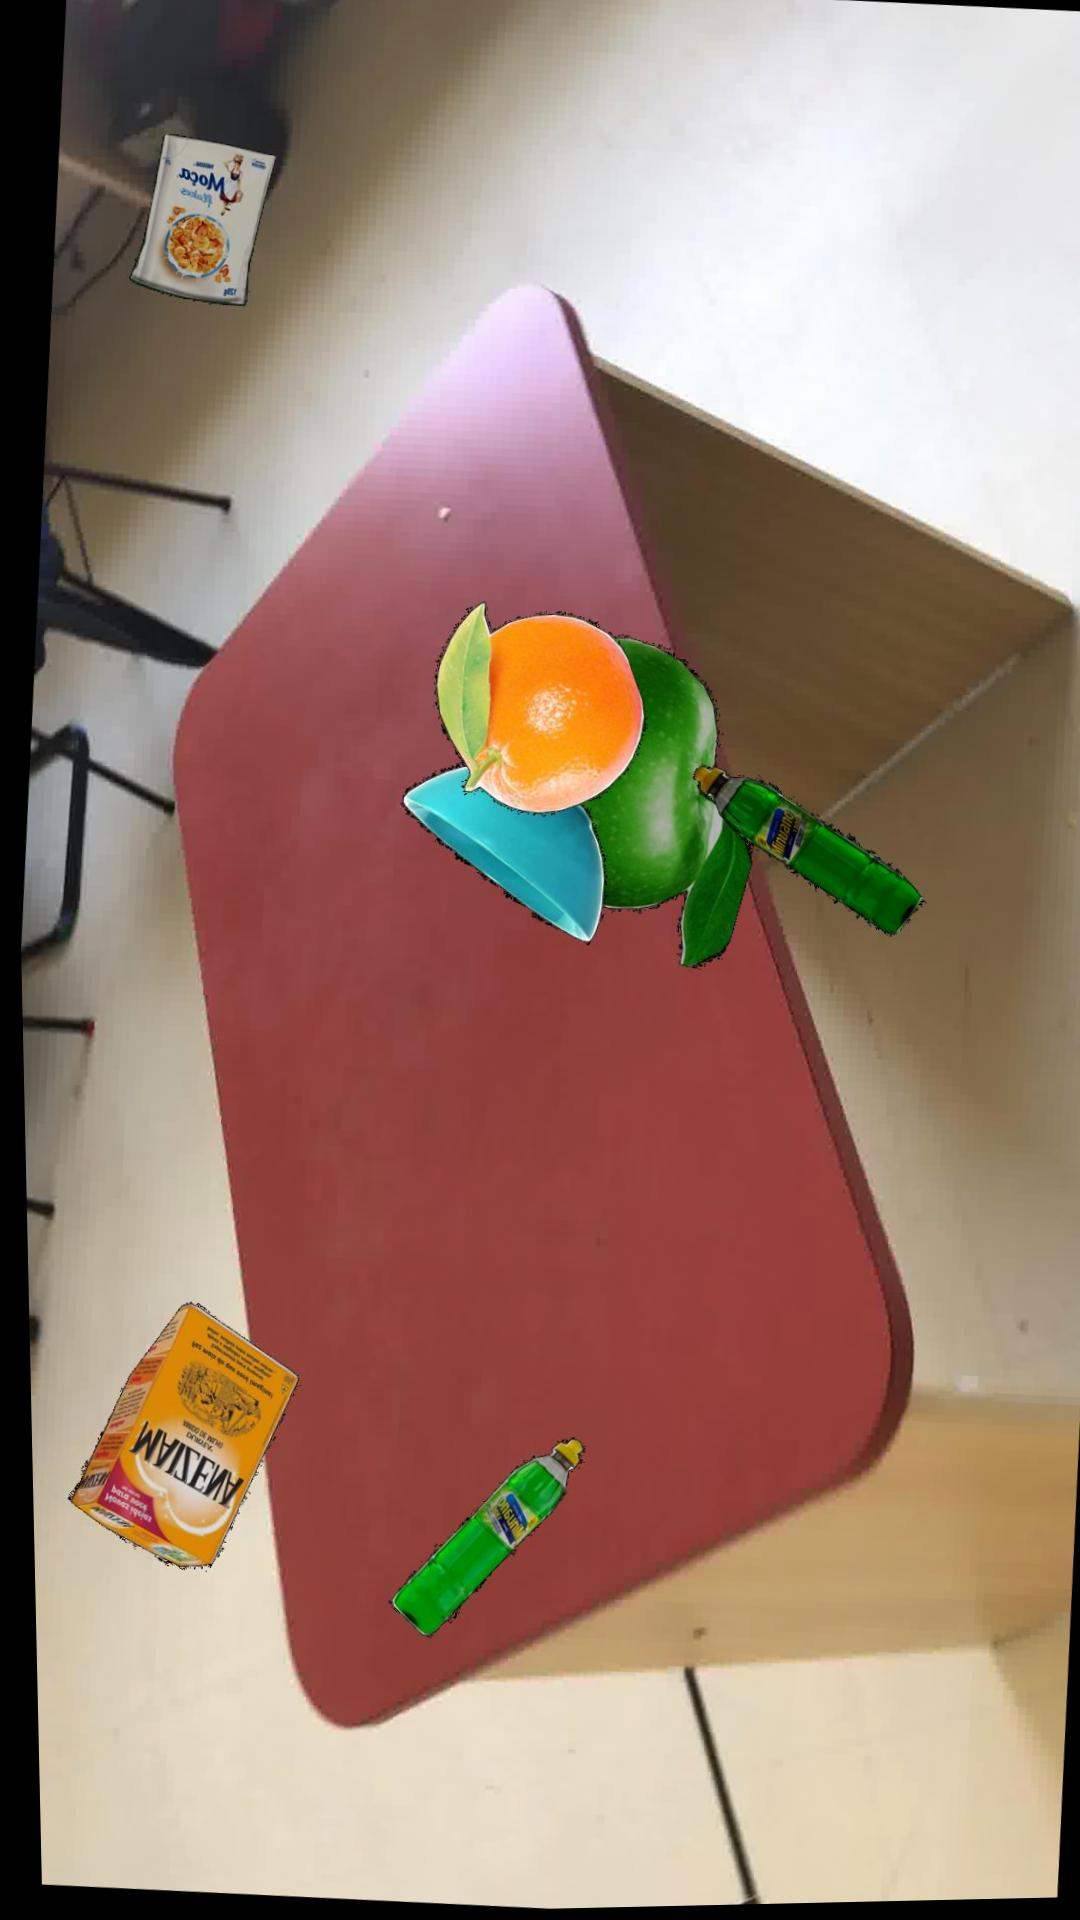bowl: (400, 767, 604, 949)
cleaner: (690, 769, 922, 943), (382, 1441, 579, 1640)
corn flakes: (129, 136, 277, 309)
green apple: (578, 640, 749, 973)
orange: (433, 605, 645, 819)
